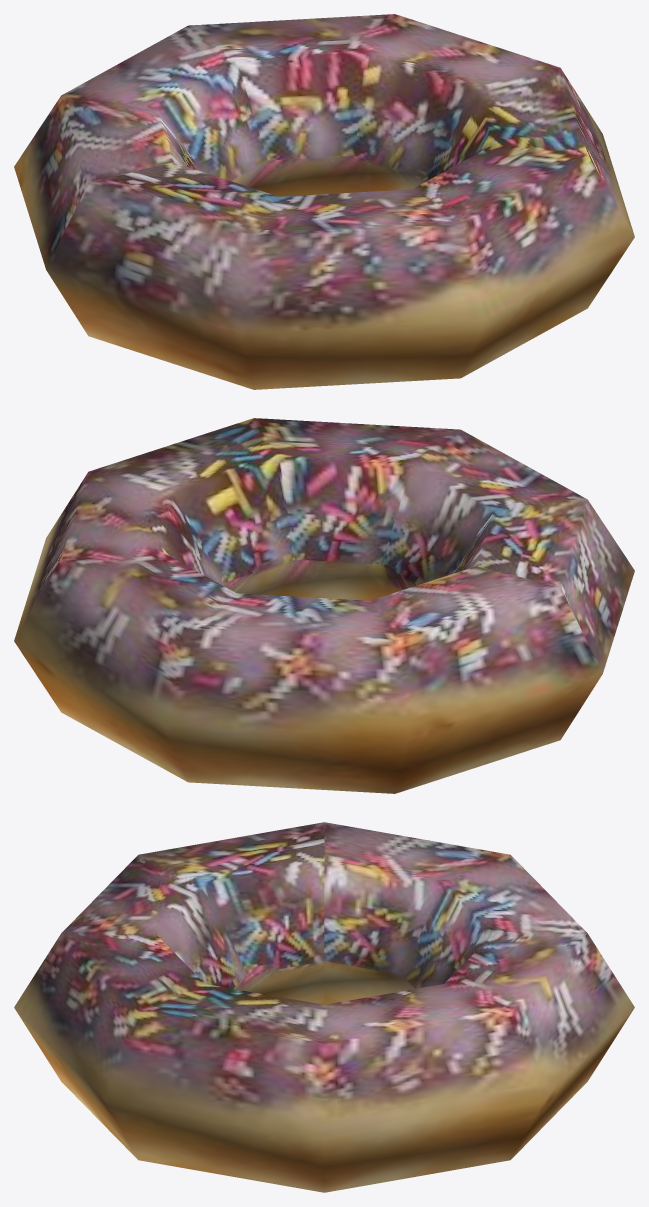
File: Donuts_02.glb
The picture shows the model from 3 angles, top to bottom: view 1: azimuth 30°, elevation 25°; view 2: azimuth 150°, elevation 25°; view 3: azimuth 270°, elevation 25°; orthographic projection. The views are drawn at different scales.
Parts seen in each view (by area): view 1: Donuts_02; view 2: Donuts_02; view 3: Donuts_02.
Boxes of the visible parts, x1=… form: Donuts_02: x1=14, y1=14, x2=634, y2=389; Donuts_02: x1=14, y1=418, x2=634, y2=793; Donuts_02: x1=14, y1=822, x2=634, y2=1192.
Size of the model in its own units: 0.1882 by 0.0495 by 0.1882.
1 material, 1 textured.
